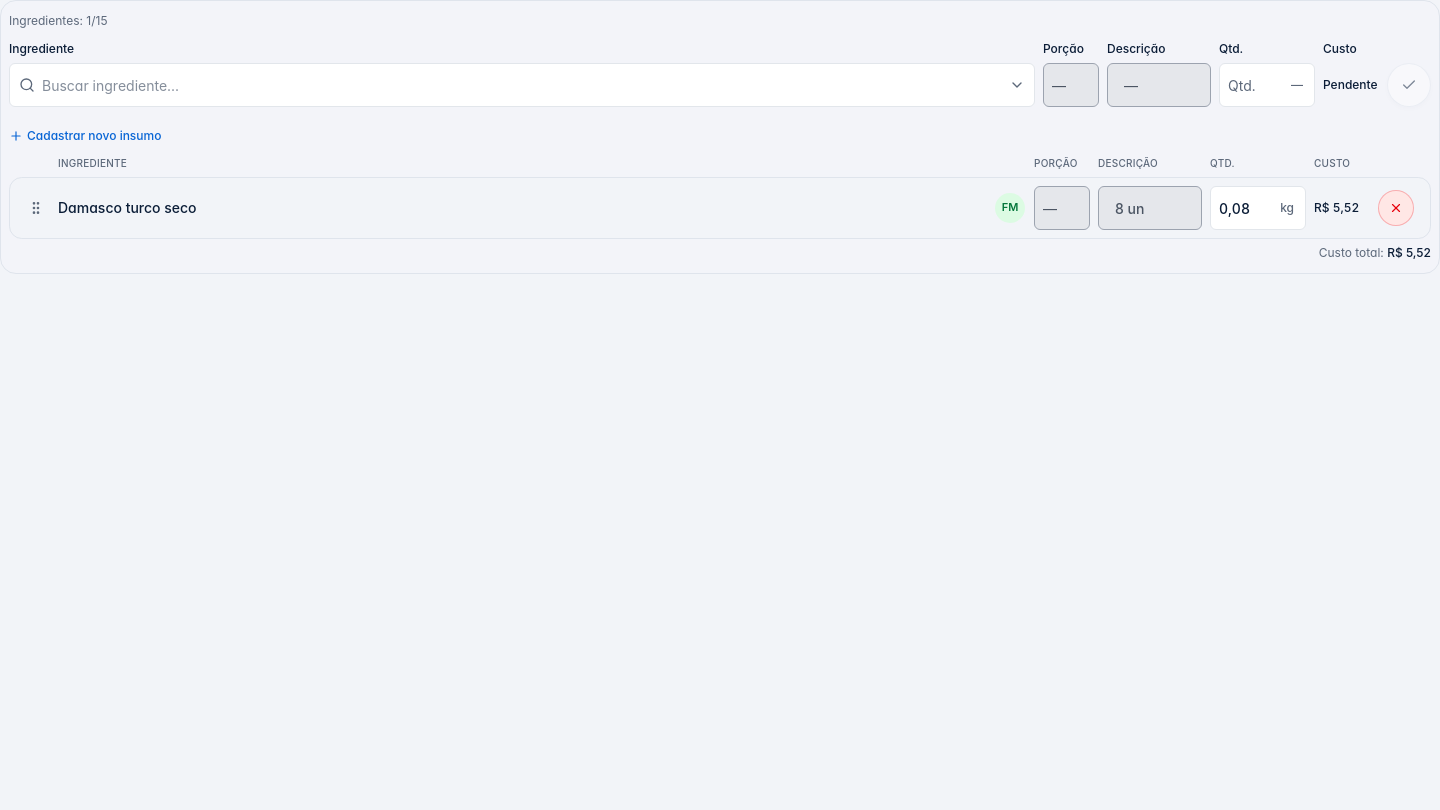
it: Vendas omite especificações em ingredientes salvos, adicionados e no cadastro rápido
Check: the text "Damasco turco seco" is shown, box 58,199 -> 197,216
Check: the field named "Descrição da porção de Damasco turco seco" holds "8 un", box 1098,186 -> 1202,230
Click the dropdown labelled "ingrediente". click: click(522, 85)
box: 9,63 -> 1035,107
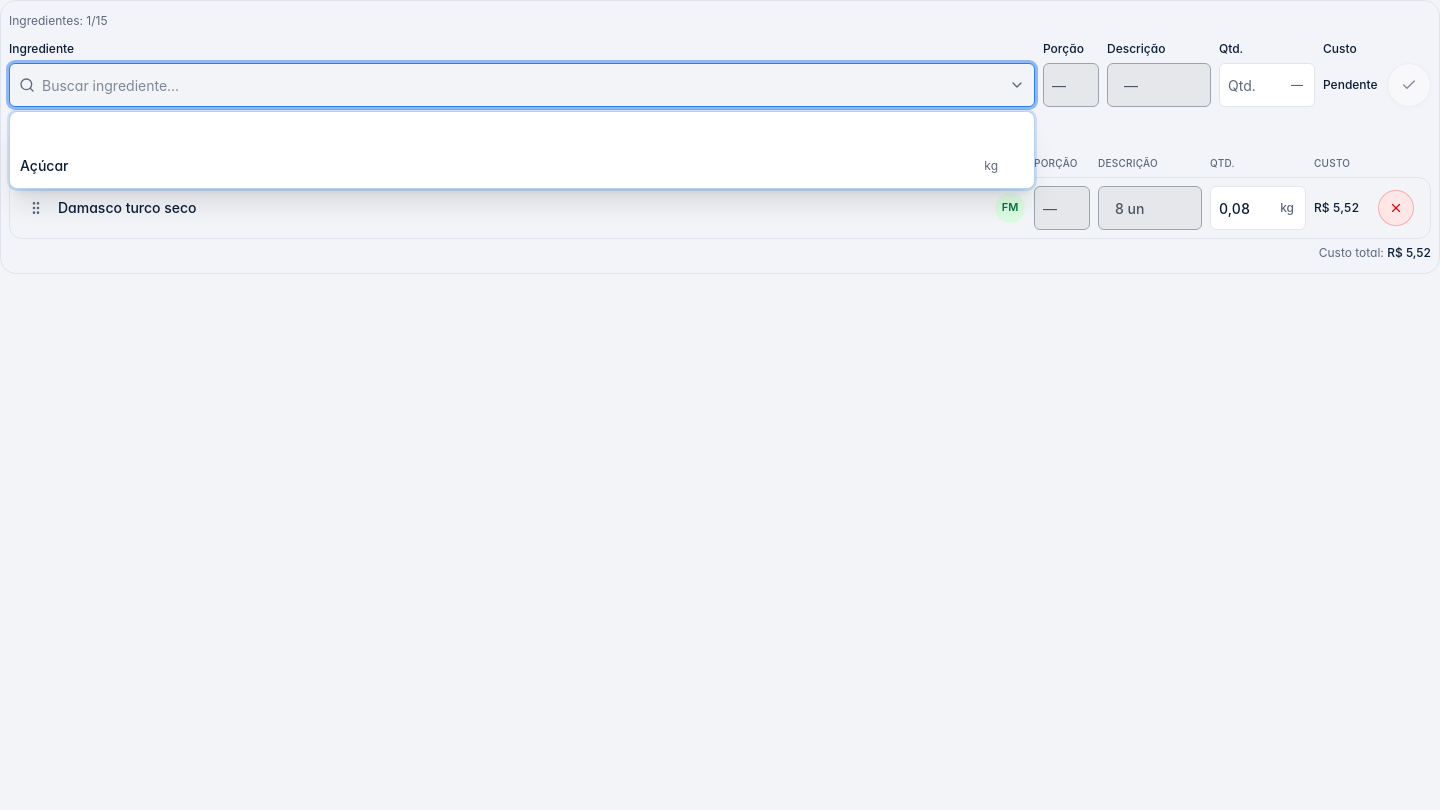
Click the option "Açúcar kg". click: click(44, 166)
box: 20,157 -> 998,174
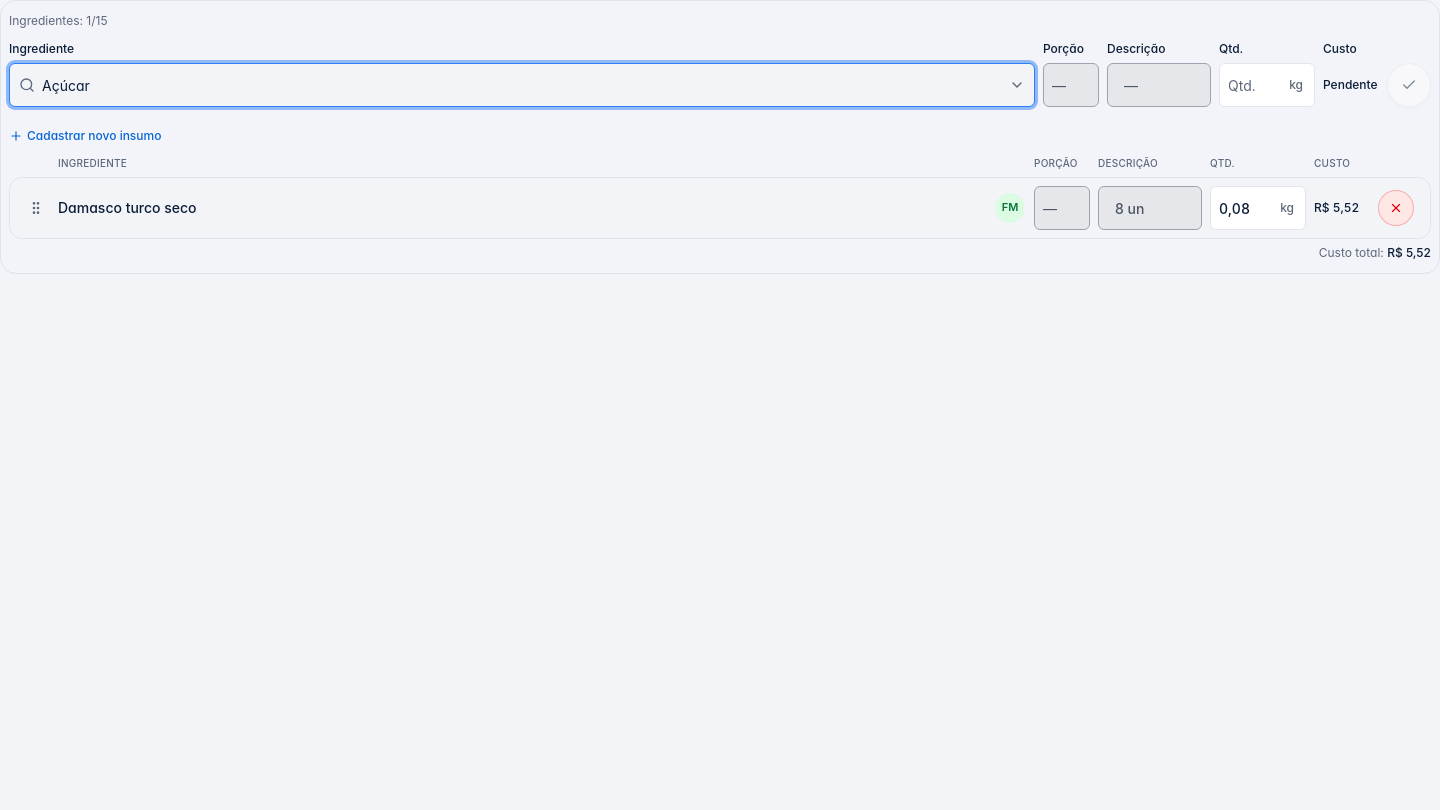
Type "0,1" into the field named "Quantidade do ingrediente". click: (1267, 85)
box: 1219,63 -> 1315,107
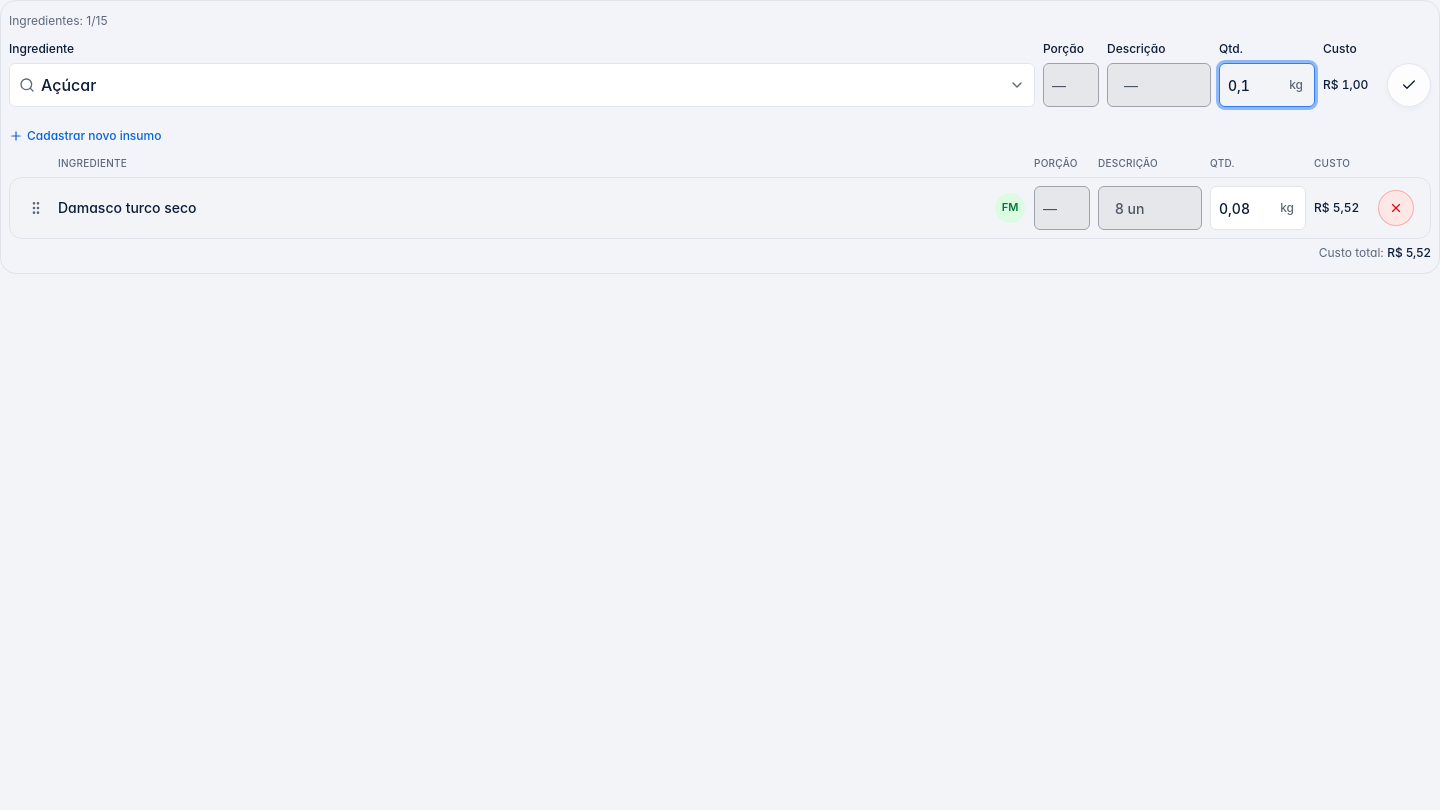
Click the button named "Adicionar ingrediente". click: click(1409, 85)
box: 1387,63 -> 1431,107
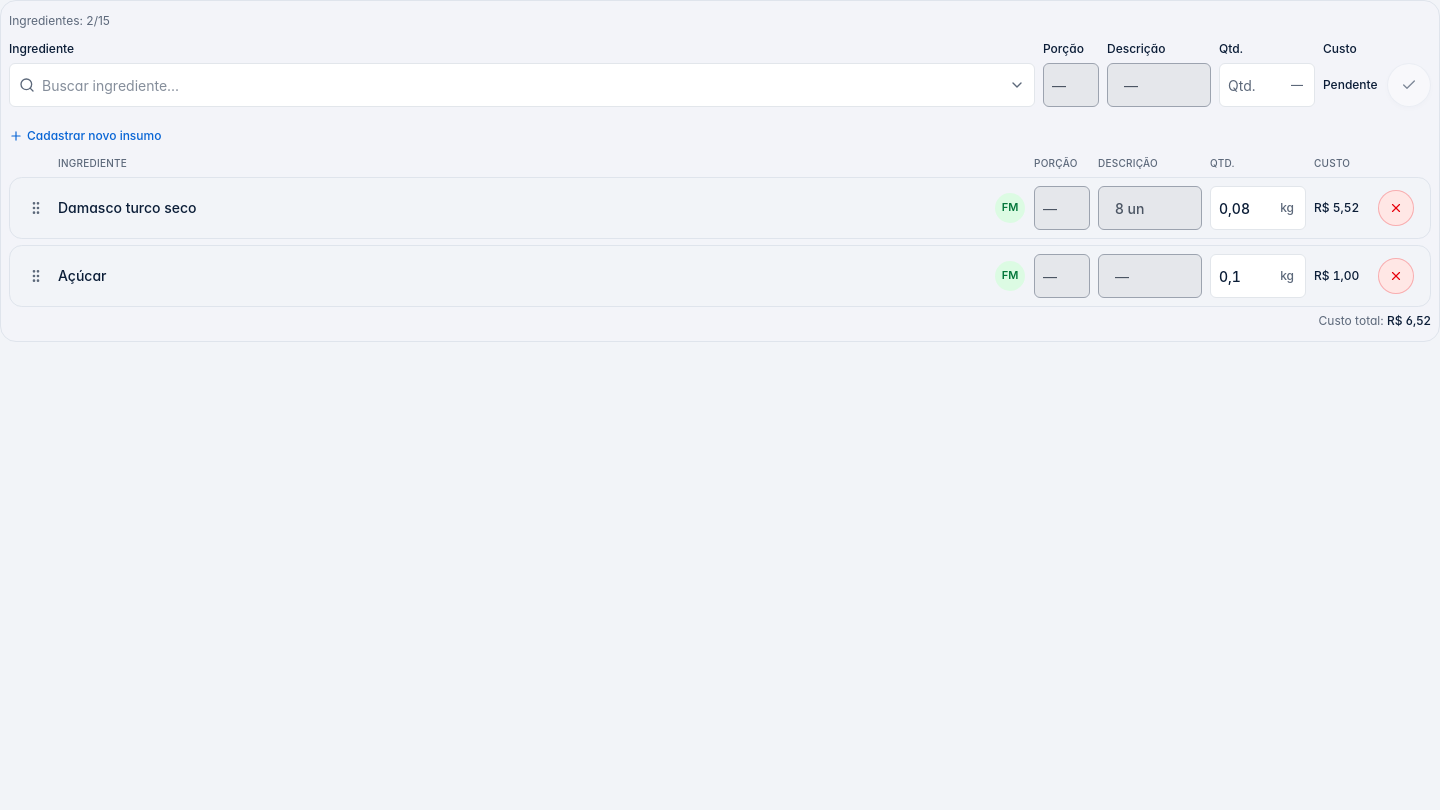
Check: the text "Açúcar" is shown, box 58,267 -> 106,284
Click the button "Cadastrar novo insumo". click: click(85, 136)
box: 9,128 -> 162,144
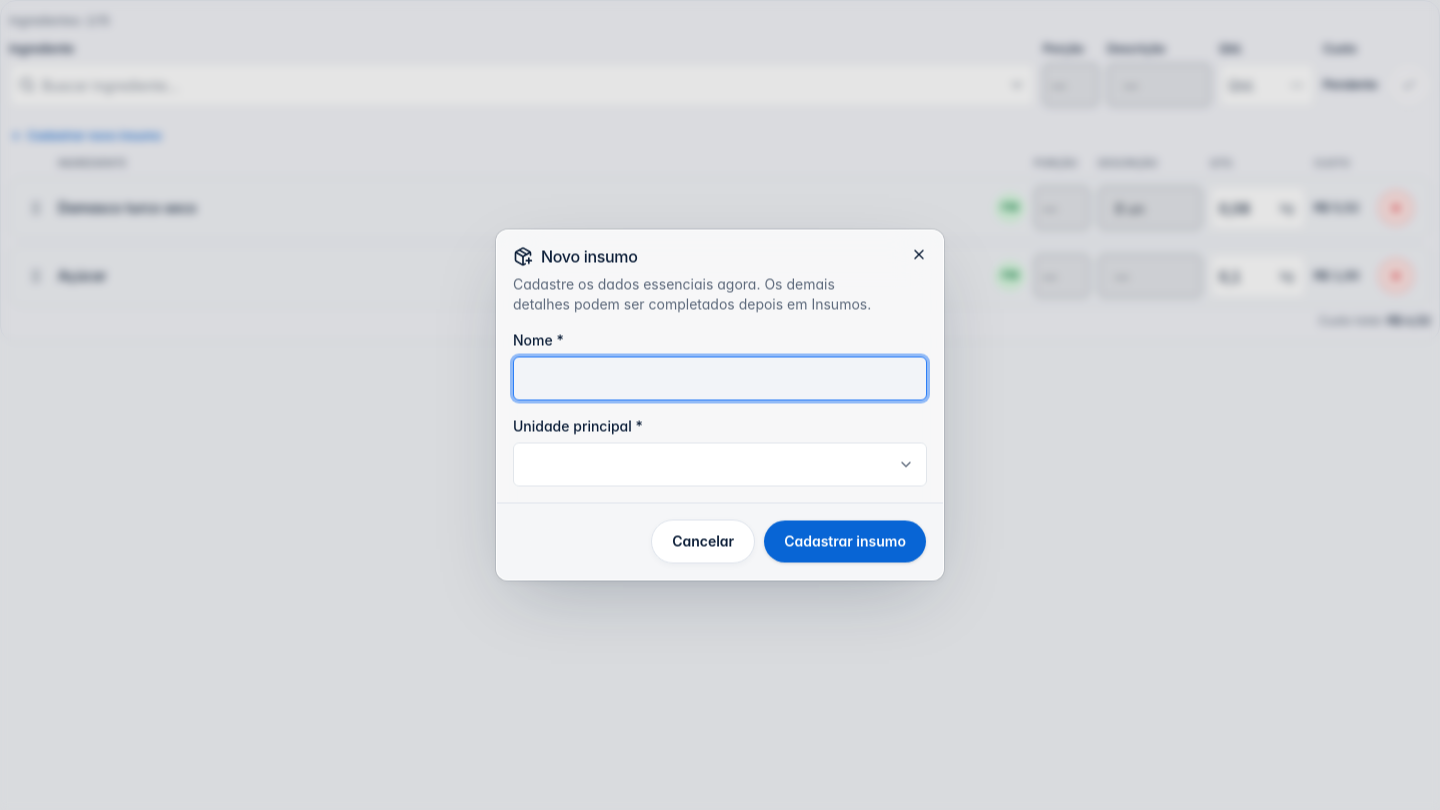
Check: the dialog named "Novo insumo" is shown, box 496,230 -> 944,580
